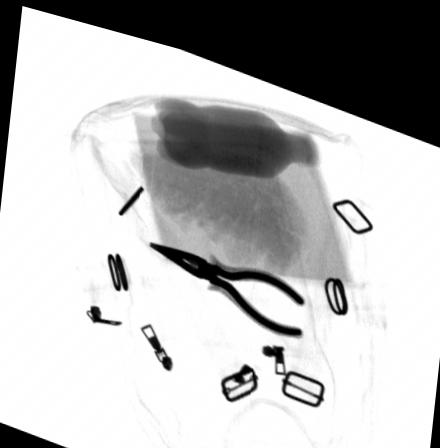Pliers: (146, 231, 308, 321)
